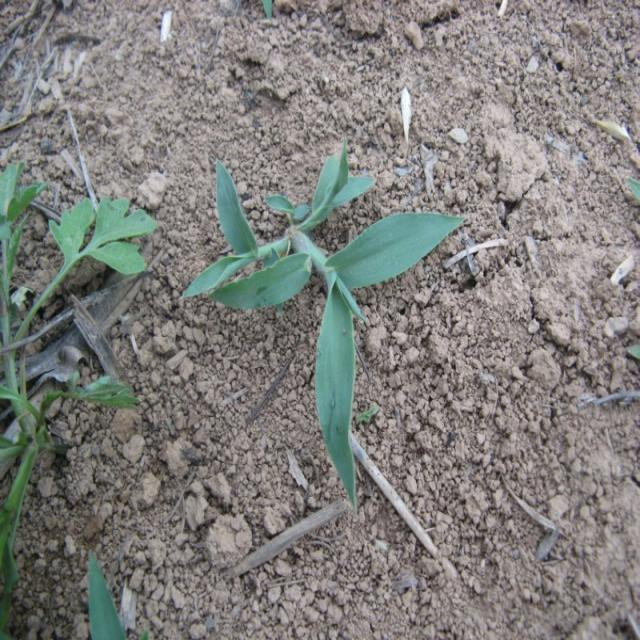bg: (182, 148, 465, 506)
